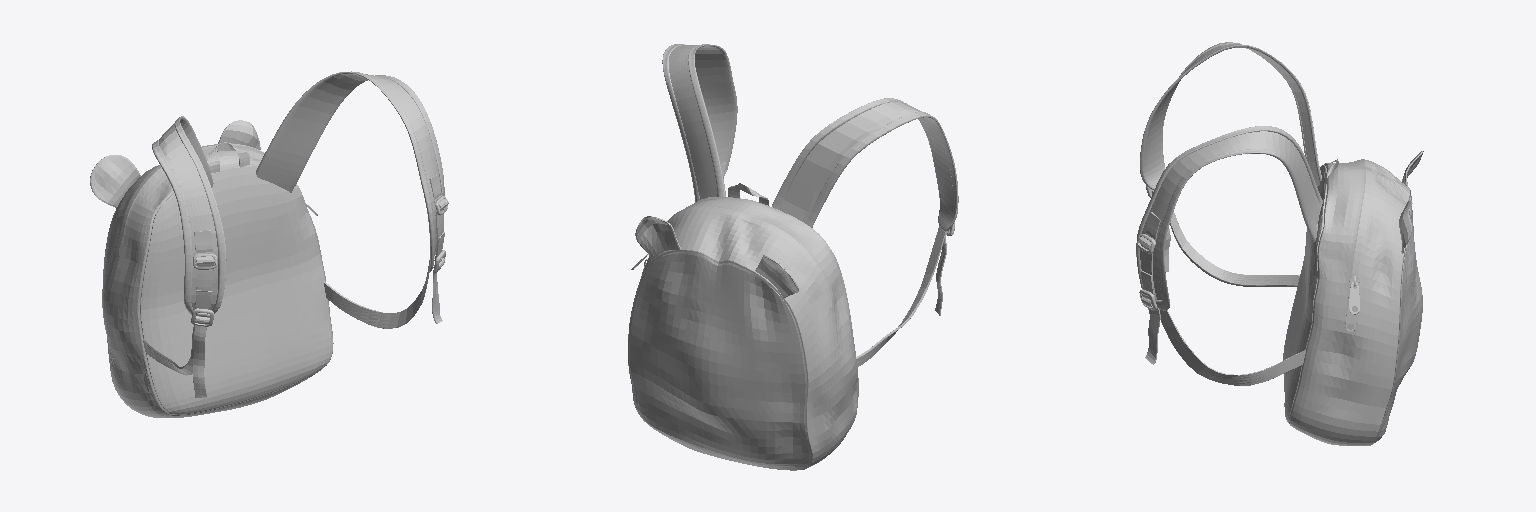
File: Backpackfixed.obj
3 views of the same model, side by side, from view 1: azimuth 30°, elevation 25°; view 2: azimuth 150°, elevation 25°; view 3: azimuth 270°, elevation 25° (orthographic).
Parts seen in each view (by area): view 1: group2 zaino_zaino_GRP1pCube8, group2 zaino_zaino_GRP1polySurface526, group2 zaino_zaino_GRP1polySurface522, group2 zaino_zaino_GRP1polySurface529, group2 zaino_pPlane4zaino_GRP1, group2 zaino_zaino_GRP1polySurface527, group2 zaino_zaino_GRP1pPlane6, group2 zaino_zaino_GRP1polySurface530, group2 zaino_zaino_GRP1pCube11, group2 zaino_zaino_GRP1pPlane3, group2 zaino_zaino_GRP1pPlane8, group2 zaino_zaino_GRP1pCube18; view 2: group2 zaino_zaino_GRP1pCube8, group2 zaino_zaino_GRP1polySurface526, group2 zaino_zaino_GRP1polySurface522, group2 zaino_zaino_GRP1polySurface529, group2 zaino_zaino_GRP1polySurface527, group2 zaino_zaino_GRP1pPlane3, group2 zaino_zaino_GRP1pPlane8, group2 zaino_pPlane4zaino_GRP1; view 3: group2 zaino_zaino_GRP1pCube8, group2 zaino_zaino_GRP1polySurface522, group2 zaino_zaino_GRP1polySurface527, group2 zaino_zaino_GRP1polySurface526, group2 zaino_zaino_GRP1pPlane6, group2 zaino_zaino_GRP1pPlane8, group2 zaino_zaino_GRP1polySurface532, group2 zaino_zaino_GRP1pCube12.
Boxes of the visible parts, box(x1,y1,x2,y2) form: group2 zaino_zaino_GRP1pCube8: box(102, 143, 333, 417); group2 zaino_zaino_GRP1polySurface526: box(256, 71, 444, 271); group2 zaino_zaino_GRP1polySurface522: box(152, 116, 226, 314); group2 zaino_zaino_GRP1polySurface529: box(159, 123, 217, 309); group2 zaino_pPlane4zaino_GRP1: box(90, 155, 140, 207); group2 zaino_zaino_GRP1polySurface527: box(365, 74, 440, 255); group2 zaino_zaino_GRP1pPlane6: box(324, 260, 429, 328); group2 zaino_zaino_GRP1polySurface530: box(194, 230, 213, 305); group2 zaino_zaino_GRP1pCube11: box(193, 325, 206, 397); group2 zaino_zaino_GRP1pPlane3: box(218, 120, 260, 149); group2 zaino_zaino_GRP1pPlane8: box(143, 325, 194, 375); group2 zaino_zaino_GRP1pCube18: box(207, 142, 249, 172); group2 zaino_zaino_GRP1pCube8: box(628, 197, 858, 470); group2 zaino_zaino_GRP1polySurface526: box(662, 44, 737, 201); group2 zaino_zaino_GRP1polySurface522: box(772, 98, 958, 231); group2 zaino_zaino_GRP1polySurface529: box(779, 102, 921, 222); group2 zaino_zaino_GRP1polySurface527: box(669, 45, 716, 199); group2 zaino_zaino_GRP1pPlane3: box(635, 216, 680, 258); group2 zaino_zaino_GRP1pPlane8: box(856, 225, 946, 366); group2 zaino_pPlane4zaino_GRP1: box(755, 255, 798, 297); group2 zaino_zaino_GRP1pCube8: box(1283, 159, 1422, 445); group2 zaino_zaino_GRP1polySurface522: box(1140, 42, 1321, 189); group2 zaino_zaino_GRP1polySurface527: box(1140, 131, 1320, 299); group2 zaino_zaino_GRP1polySurface526: box(1136, 126, 1322, 310); group2 zaino_zaino_GRP1pPlane6: box(1160, 310, 1305, 385); group2 zaino_zaino_GRP1pPlane8: box(1170, 212, 1299, 286); group2 zaino_zaino_GRP1polySurface532: box(1139, 212, 1160, 299); group2 zaino_zaino_GRP1pCube12: box(1145, 308, 1160, 364).
Size of the model in its own units: 30.28 by 37.92 by 28.79.